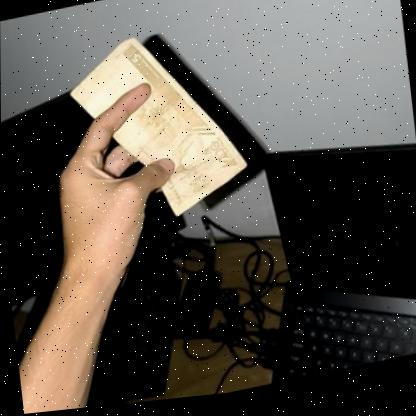five-back-vef: (64, 19, 251, 238)
